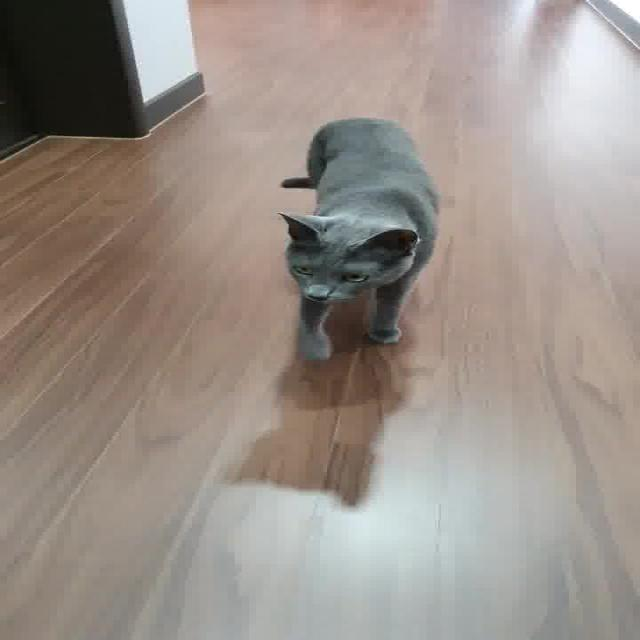cat: (222, 114, 478, 382)
